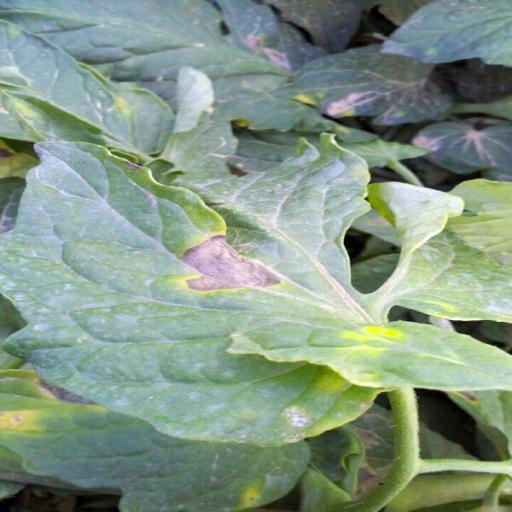disease_tomato: (0, 138, 392, 448)
